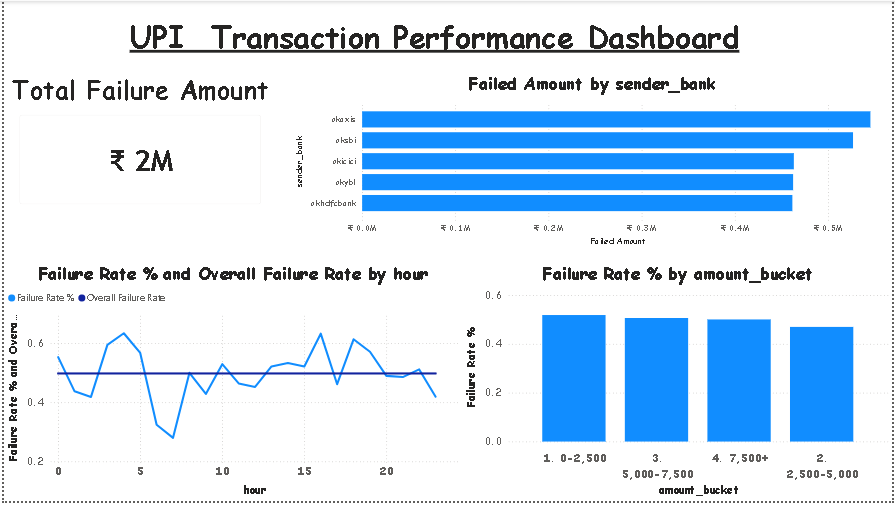

What the dashboard file says about the page in this screenshot:
{"tool":"powerbi","page":{"name":"Failure Analysis","canvas":[1280,720],"ordinal":1},"visuals":[{"type":"textbox","box":[10.4,13.8,1219.6,72.5],"z":0},{"type":"barChart","fields":{"Category":["transactions.sender_bank"],"Y":["transactions.Failed Amount"]},"box":[414.9,100.8,865.1,258.7],"z":1},{"type":"lineChart","fields":{"Category":["transactions.hour"],"Y":["transactions.Failure Rate %","transactions.Overall Failure Rate"]},"box":[0,374.6,660.2,346],"z":2},{"type":"clusteredColumnChart","fields":{"Category":["transactions.amount_bucket"],"Y":["transactions.Failure Rate %"]},"box":[660,375,620,345],"z":3},{"type":"cardVisual","title":"Total Failure Amount","fields":{"Data":["transactions.Failed Amount"]},"box":[10.1,100.8,372.9,204.9],"z":4}]}

Visuals, with their boxes in screenshot pixels (x1, y1, x2, y2), scaled from the page's 1280x720 canvas onto the 895x505 screenshot:
textbox: [7,10,860,61]
barChart - transactions.sender_bank x transactions.Failed Amount: [290,71,894,252]
lineChart - transactions.hour x transactions.Failure Rate %: [0,263,462,504]
clusteredColumnChart - transactions.amount_bucket x transactions.Failure Rate %: [461,263,894,504]
"Total Failure Amount" cardVisual: [7,71,268,214]
